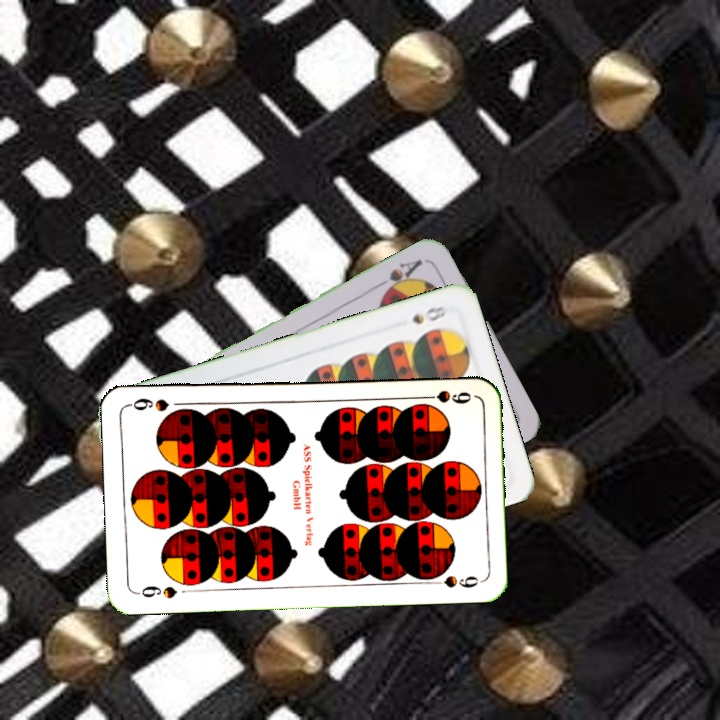S8: (407, 302, 450, 327)
S9: (416, 386, 474, 407), (132, 581, 179, 601)
SA: (372, 255, 425, 298)
